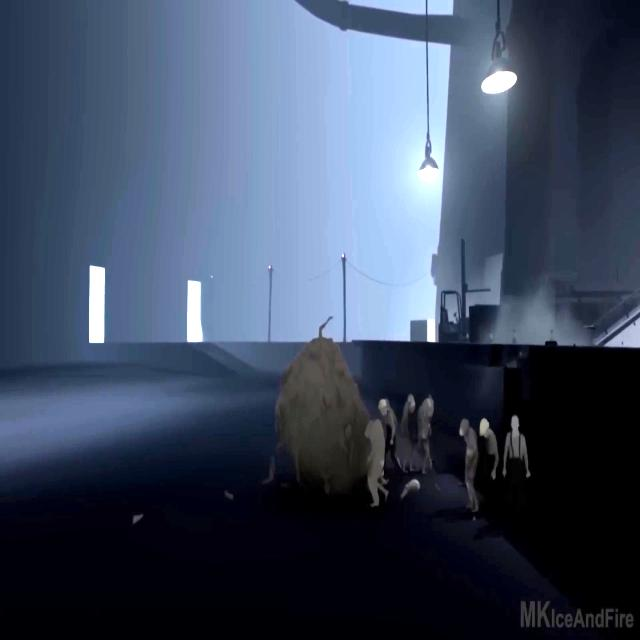blob: (263, 316, 370, 488)
zombie: (503, 415, 531, 522), (459, 418, 480, 523), (480, 418, 499, 516), (397, 394, 416, 479), (378, 397, 398, 469), (418, 394, 434, 483)
